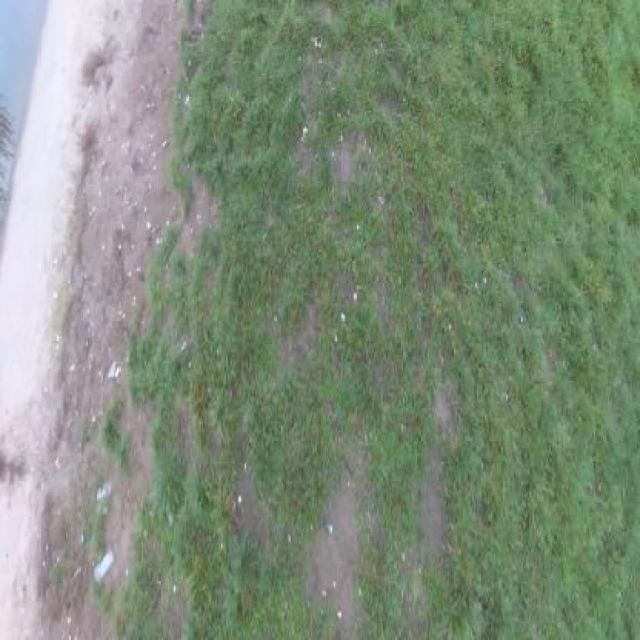Garbage: (93, 549, 114, 585), (95, 478, 111, 500)
